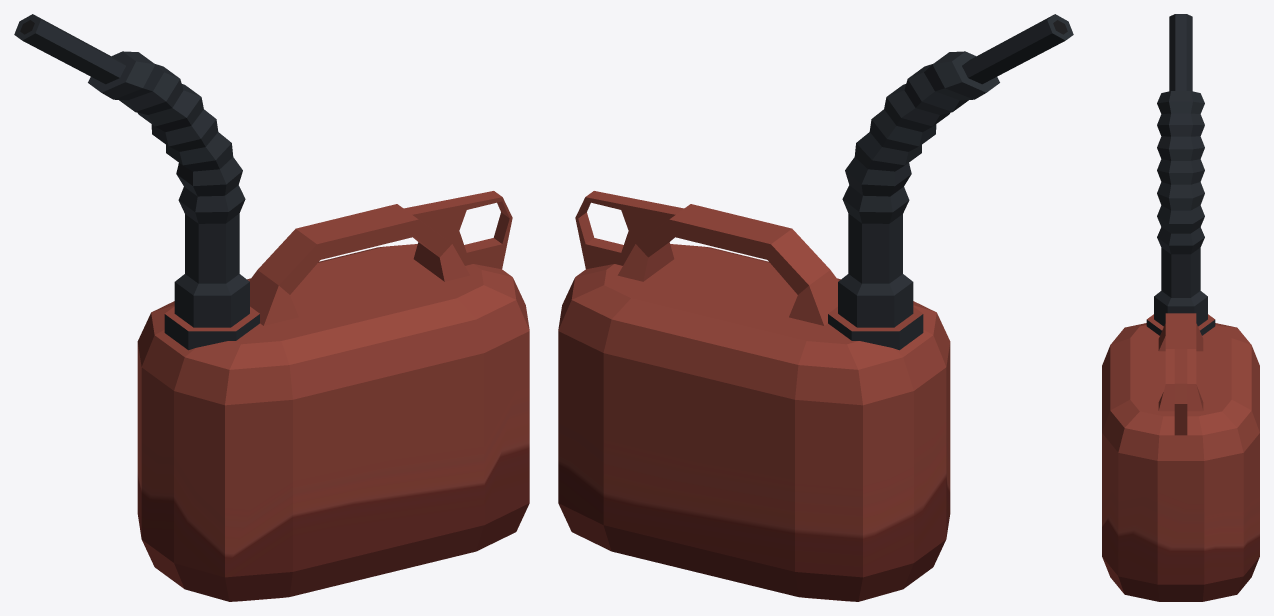
The model's file is SM_Canister_A.fbx.
3 views of the same model, side by side, from view 1: azimuth 30°, elevation 25°; view 2: azimuth 150°, elevation 25°; view 3: azimuth 270°, elevation 25° (orthographic). The views are drawn at different scales.
Parts seen in each view (by area): view 1: SM_Canister_A; view 2: SM_Canister_A; view 3: SM_Canister_A.
Boxes of the visible parts, left/top/right/bottom form: SM_Canister_A: left=14, top=14, right=529, bottom=601; SM_Canister_A: left=558, top=14, right=1073, bottom=601; SM_Canister_A: left=1102, top=14, right=1259, bottom=601.
Bounding box in the file's own units: 56.43 × 66.52 × 21.87.
